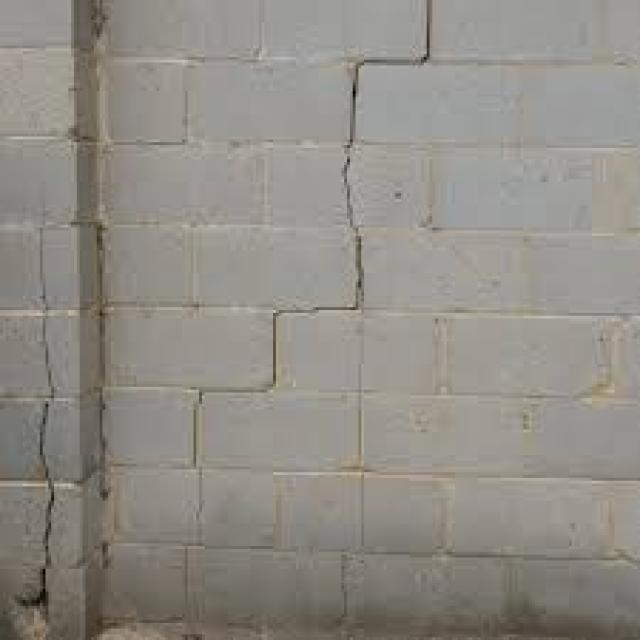Crack: (182, 0, 435, 466), (12, 219, 48, 626)
